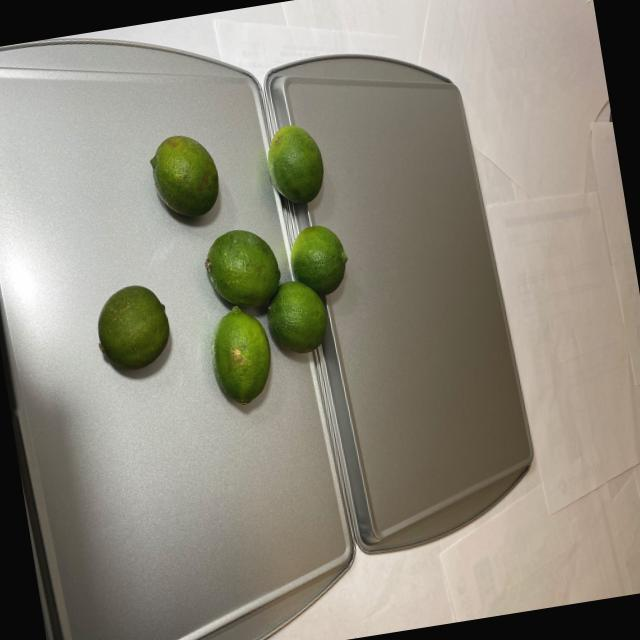lemon: (61, 109, 370, 432)
